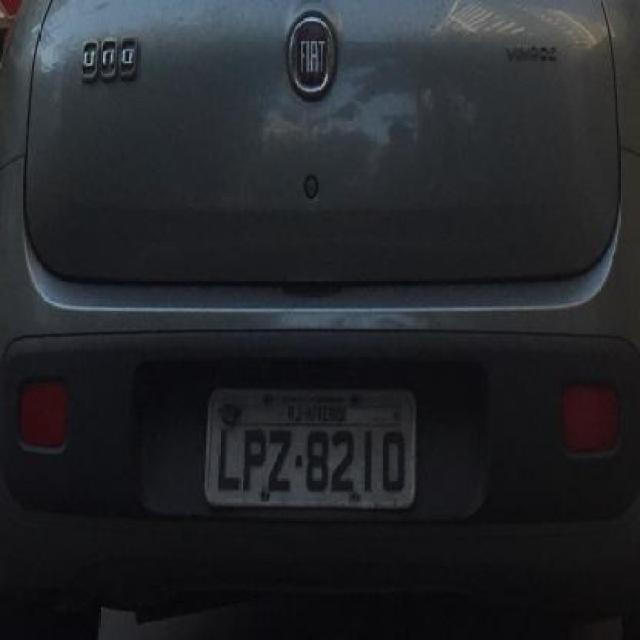old_plate: (194, 381, 432, 518)
